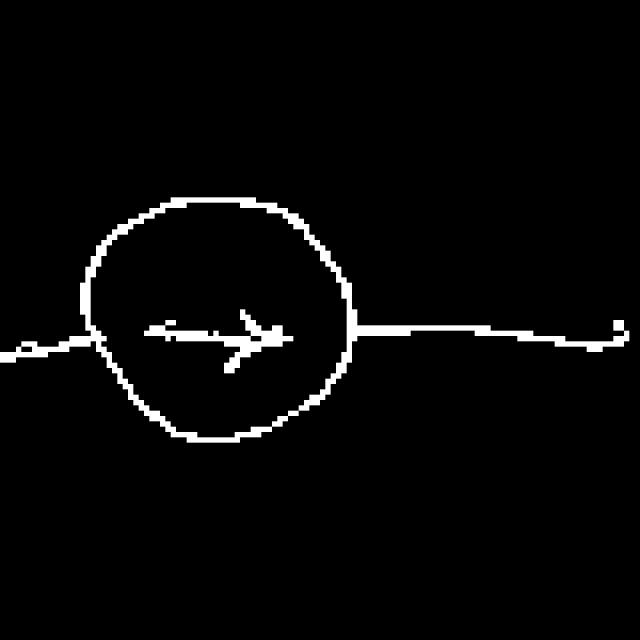current_source: (80, 178, 373, 459)
